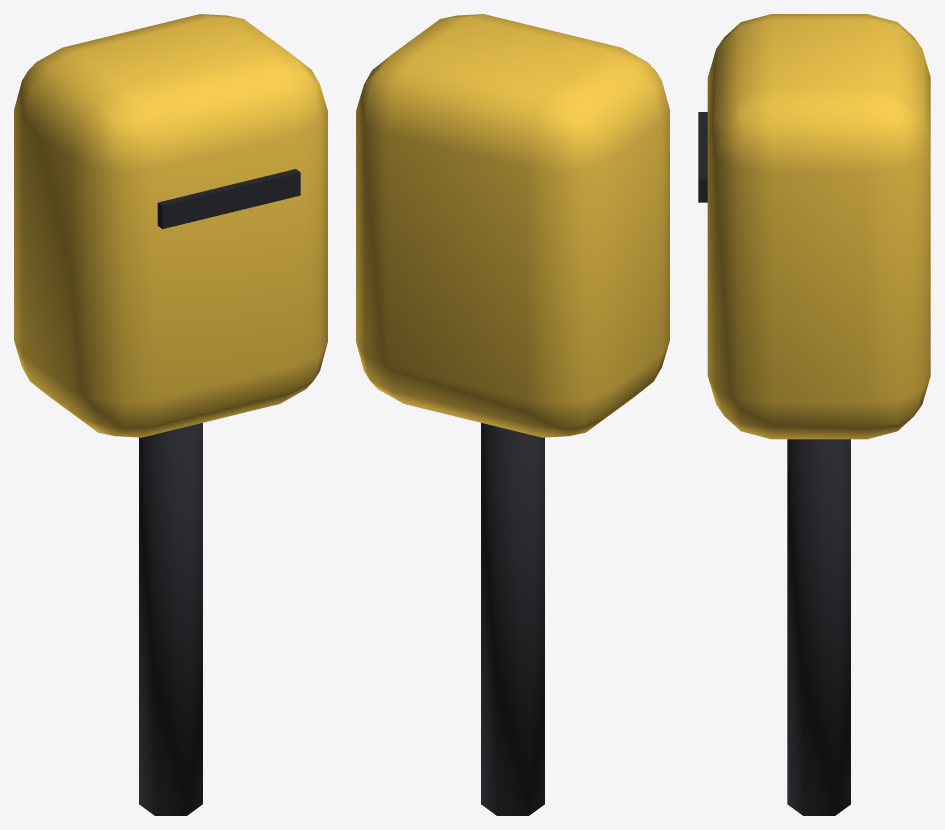
File: mailbox.gltf
The picture shows the model from 3 angles, left to right: view 1: azimuth 30°, elevation 25°; view 2: azimuth 150°, elevation 25°; view 3: azimuth 270°, elevation 25°; orthographic projection.
Parts seen in each view (by area): view 1: mailbox_mesh; view 2: mailbox_mesh; view 3: mailbox_mesh.
Boxes of the visible parts, x1,y1,x2,y2 form: mailbox_mesh: (14, 14, 327, 815); mailbox_mesh: (356, 14, 669, 815); mailbox_mesh: (698, 14, 930, 815).
Bounding box in the file's own units: 0.45 × 1.3 × 0.365.
